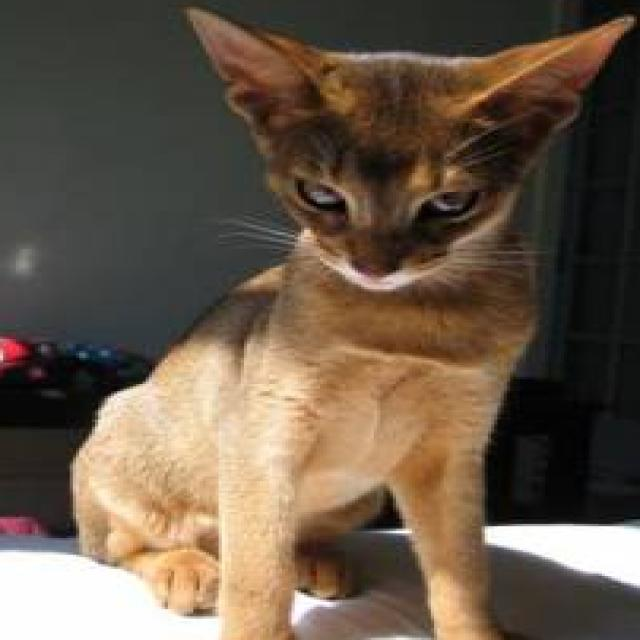Abyssinian: (63, 0, 640, 640)
